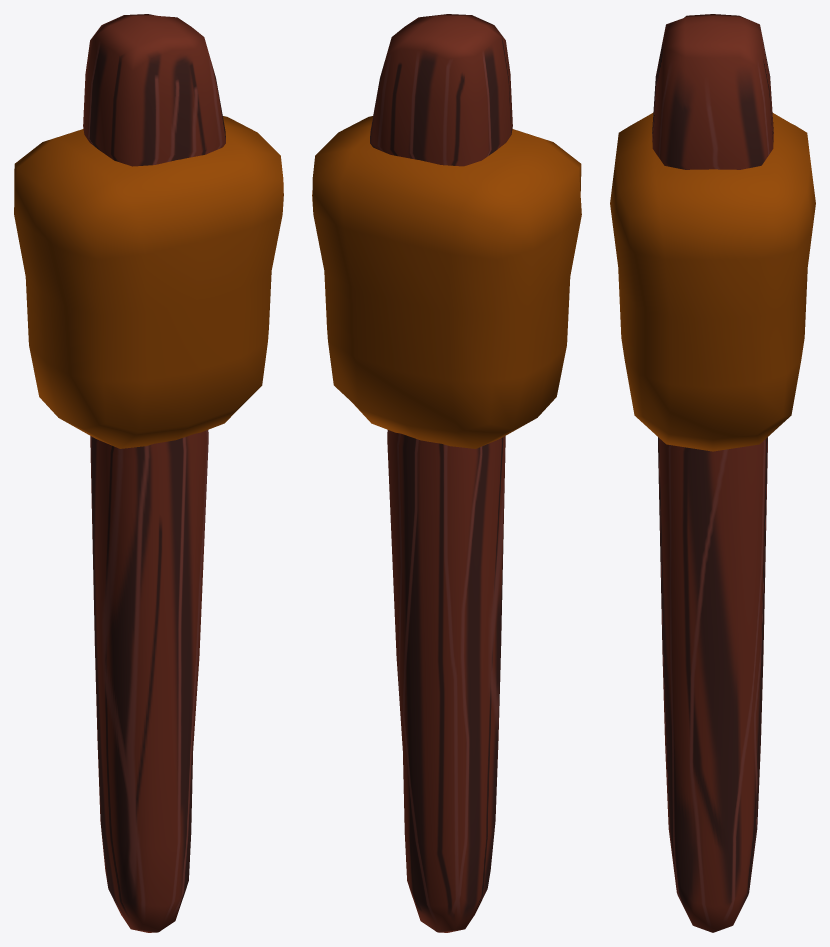
The model's file is torch.fbx.
3 views of the same model, side by side, from view 1: azimuth 30°, elevation 25°; view 2: azimuth 150°, elevation 25°; view 3: azimuth 270°, elevation 25° (orthographic).
Parts seen in each view (by area): view 1: Cubo.001, Cubo; view 2: Cubo.001, Cubo; view 3: Cubo, Cubo.001.
Part boxes in pixels (box(x1,y1,x2,y2)): Cubo.001: box(14, 116, 283, 448); Cubo: box(83, 14, 225, 932); Cubo.001: box(312, 116, 581, 448); Cubo: box(370, 14, 512, 932); Cubo: box(652, 14, 773, 932); Cubo.001: box(610, 113, 815, 451).
Size of the model in its own units: 112 by 424 by 86.98.
2 materials, 2 textured.
